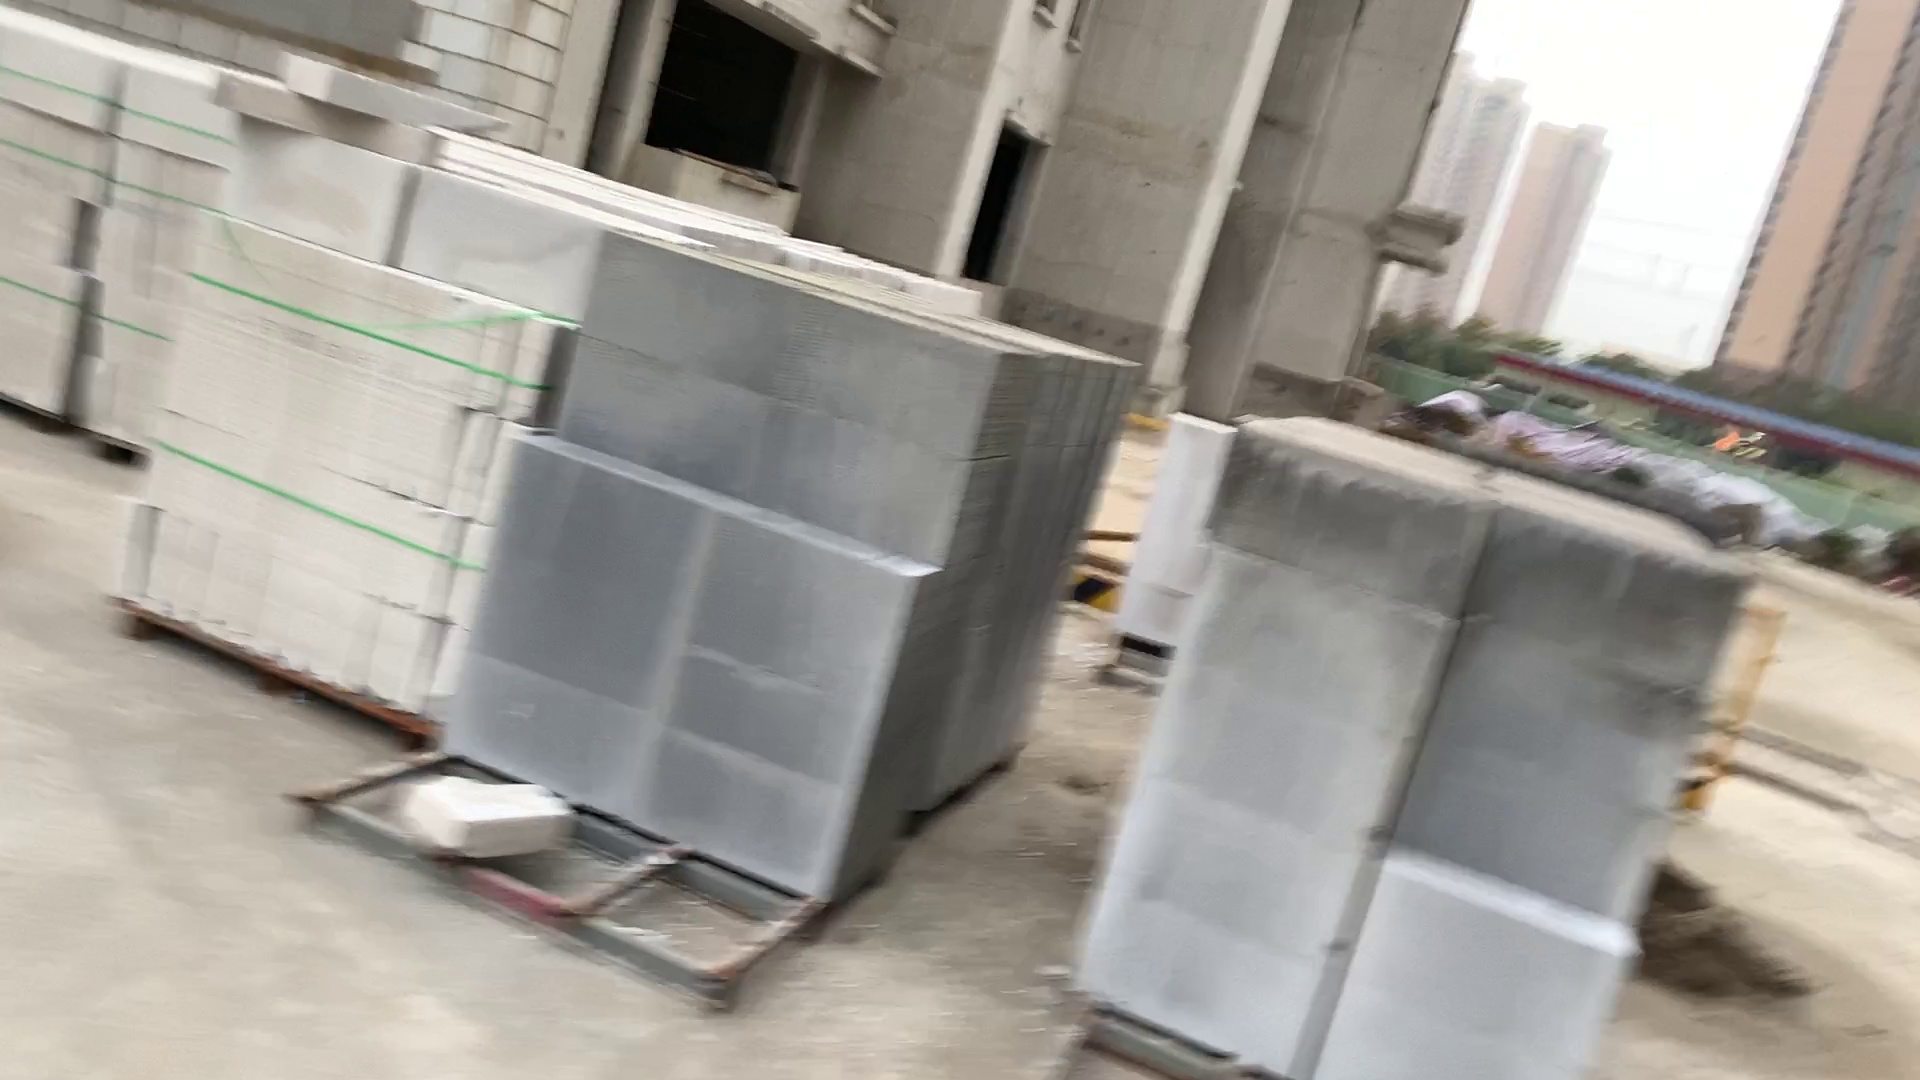brickwork: (1100, 431, 1768, 1080), (502, 235, 1056, 903), (170, 95, 524, 704), (3, 11, 102, 411), (103, 54, 203, 442), (1114, 407, 1211, 649)
